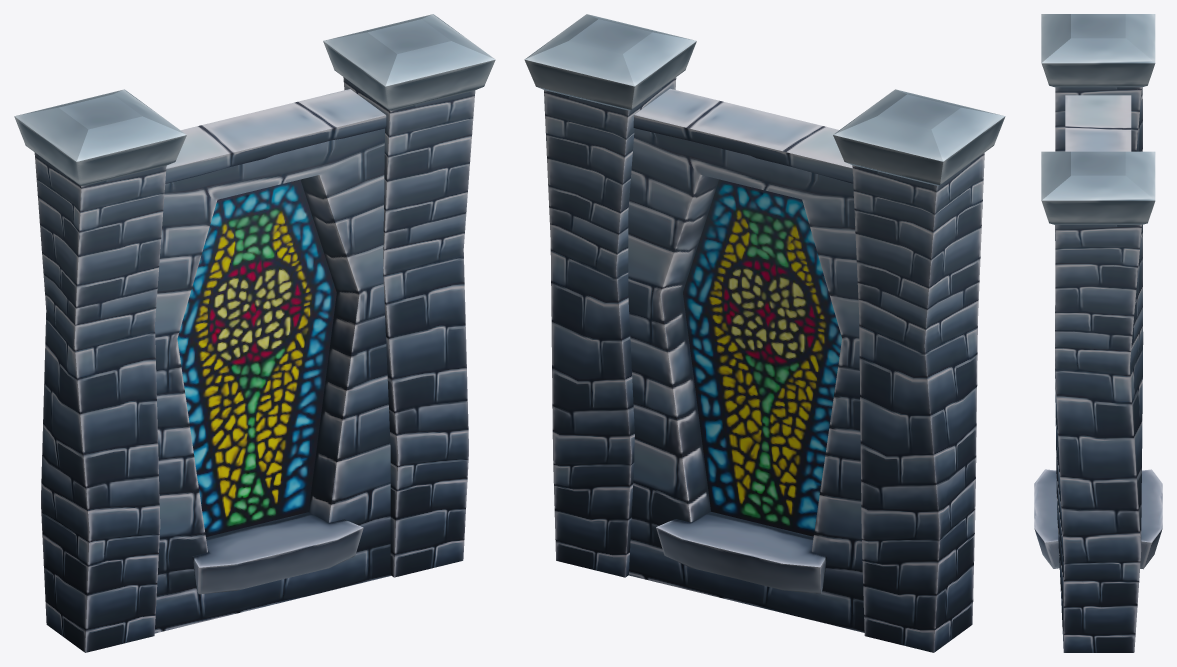
File: Vampire_Village_Props_25.FBX
3 views of the same model, side by side, from view 1: azimuth 30°, elevation 25°; view 2: azimuth 150°, elevation 25°; view 3: azimuth 270°, elevation 25° (orthographic). The views are drawn at different scales.
Visible parts, largest first — view 1: Vampire_Village_Props_25; view 2: Vampire_Village_Props_25; view 3: Vampire_Village_Props_25.
Part boxes in pixels (<box>): Vampire_Village_Props_25: <box>14,14,495,652</box>; Vampire_Village_Props_25: <box>524,14,1005,652</box>; Vampire_Village_Props_25: <box>1034,14,1162,652</box>.
Size of the model in its own units: 342 by 404 by 99.38.
